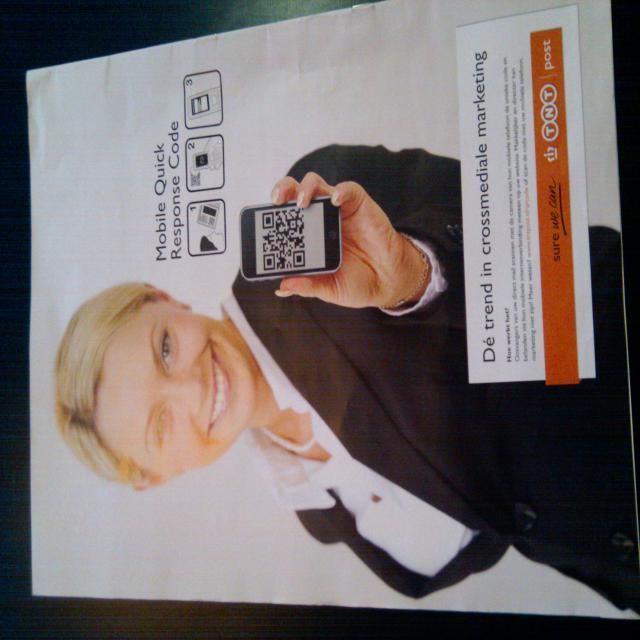qrcode: (263, 209, 306, 272)
